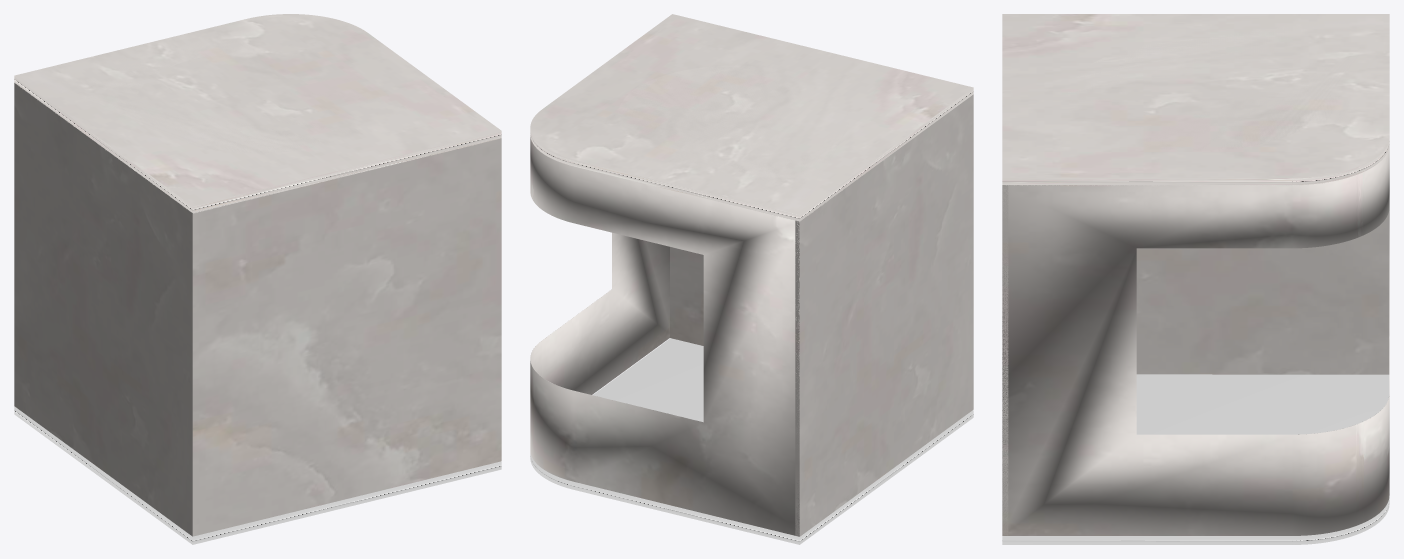
File: wall.fbx
3 renders of one model, left to right at view 1: azimuth 30°, elevation 25°; view 2: azimuth 150°, elevation 25°; view 3: azimuth 270°, elevation 25°, orthographic. The views are drawn at different scales.
Parts seen in each view (by area): view 1: Cube.001, Cube.003, Cube; view 2: Cube.002, Cube.001, Cube.003, Cube; view 3: Cube.002, Cube.003, Cube.001, Cube.
Part boxes in pixels (x1=…): Cube.001: x1=14, y1=83, x2=501, y2=536; Cube.003: x1=14, y1=14, x2=501, y2=213; Cube: x1=14, y1=406, x2=501, y2=544; Cube.002: x1=530, y1=137, x2=799, y2=536; Cube.001: x1=670, y1=94, x2=973, y2=536; Cube.003: x1=530, y1=14, x2=973, y2=221; Cube: x1=530, y1=338, x2=973, y2=544; Cube.002: x1=1002, y1=145, x2=1389, y2=535; Cube.003: x1=1002, y1=14, x2=1389, y2=185; Cube.001: x1=1002, y1=185, x2=1389, y2=535; Cube: x1=1002, y1=374, x2=1389, y2=544.
Bounding box in the file's own units: 1000 × 1047 × 1000.
